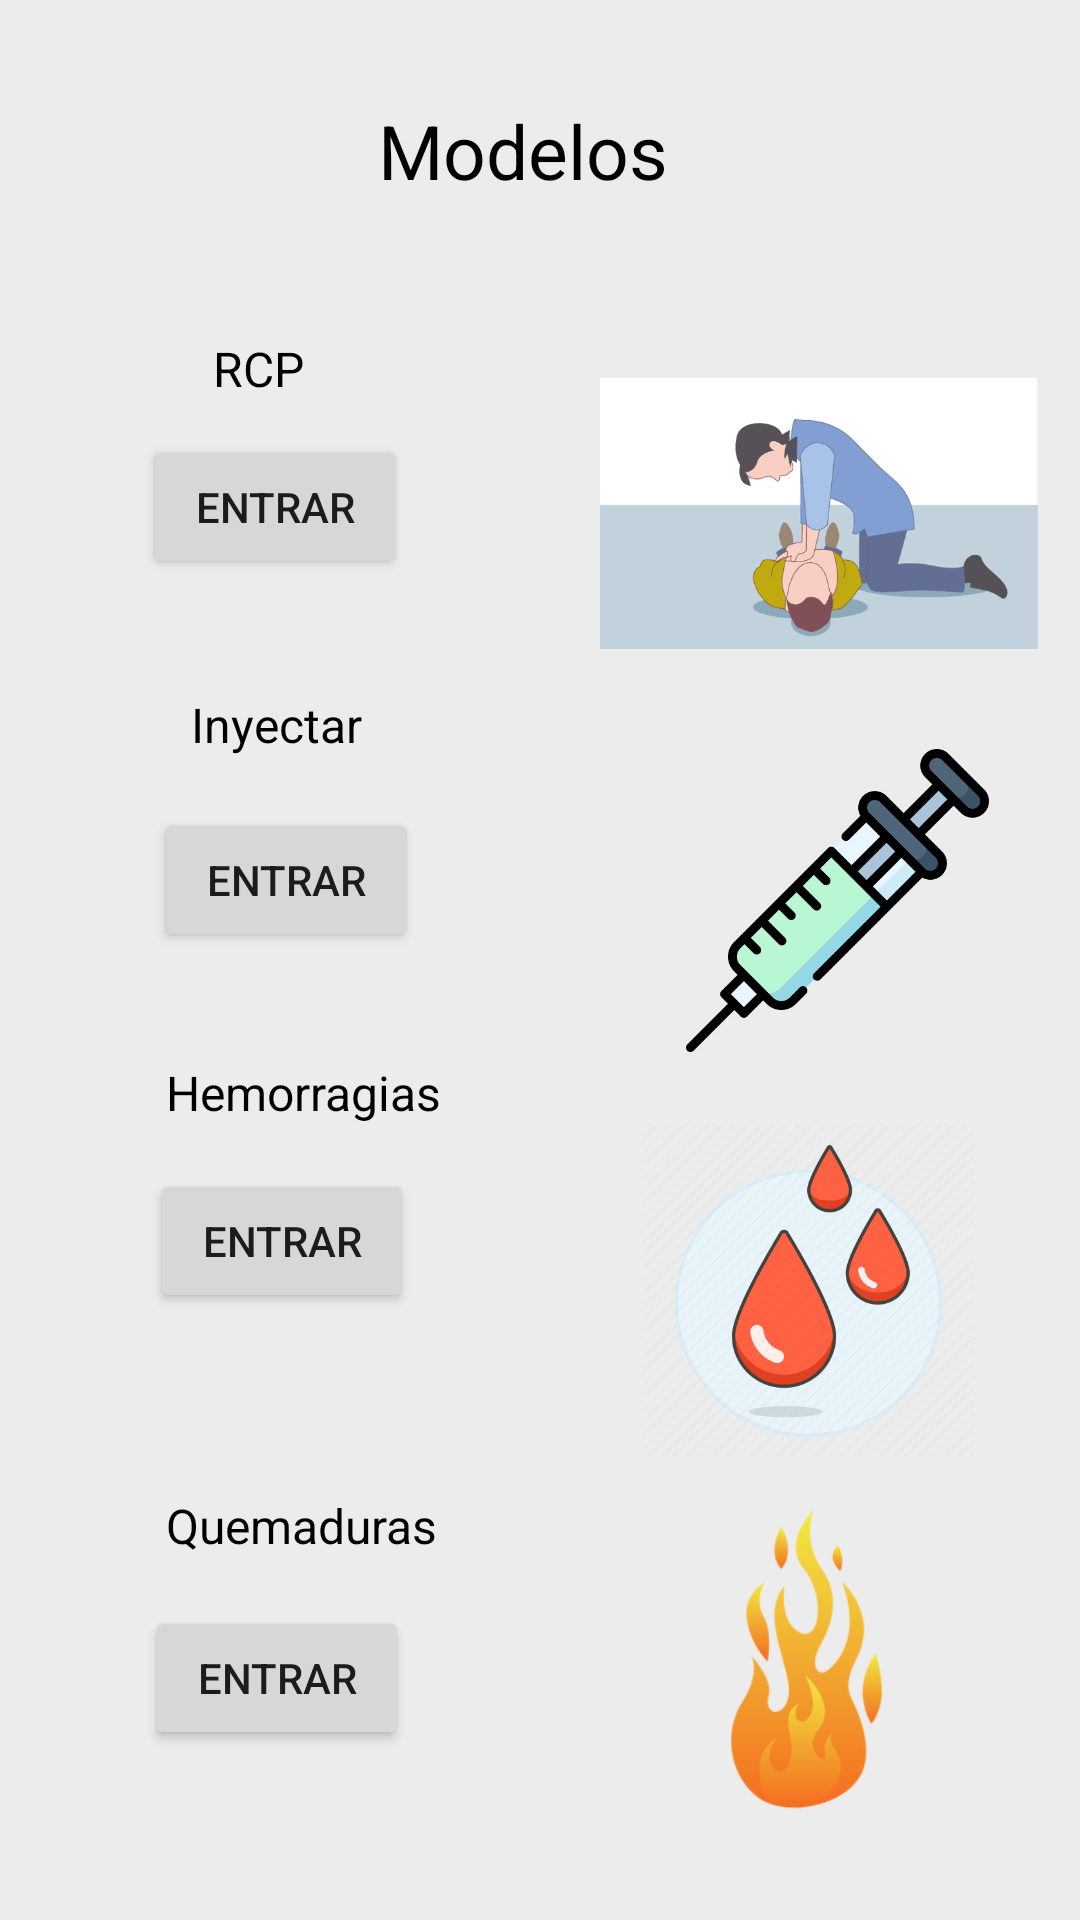

Where icons sit on this 1080 x 1920 app screen, as (x1, y1, x2, y2):
hemorragias: (675, 1144, 942, 1437)
quemadura: (731, 1510, 882, 1809)
